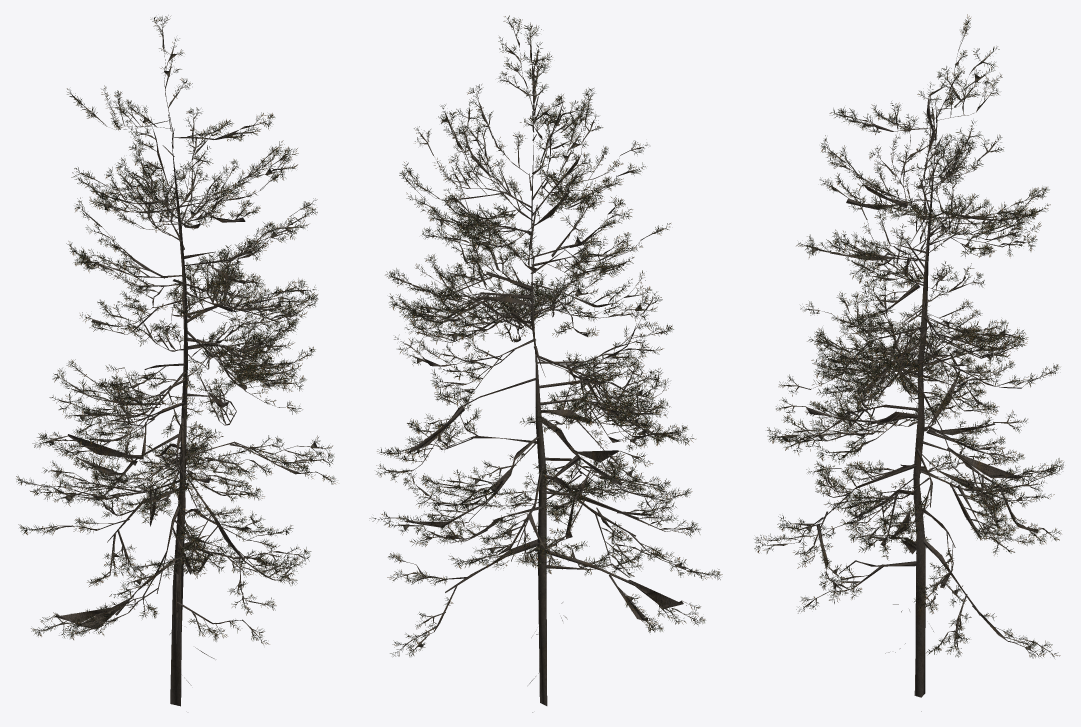
Rendered from pine_game.glb.
The picture shows the model from 3 angles, left to right: view 1: azimuth 30°, elevation 25°; view 2: azimuth 150°, elevation 25°; view 3: azimuth 270°, elevation 25°; orthographic projection. The views are drawn at different scales.
Visible parts, largest first — view 1: pine_sapling_medium_a_LOD0; view 2: pine_sapling_medium_a_LOD0; view 3: pine_sapling_medium_a_LOD0.
Part boxes in pixels (box(x1,y1,x2,y2)): pine_sapling_medium_a_LOD0: box(16, 15, 337, 706); pine_sapling_medium_a_LOD0: box(369, 15, 722, 712); pine_sapling_medium_a_LOD0: box(754, 14, 1063, 711).
Size of the model in its own units: 5.16 by 11.47 by 4.72.
3 materials, 3 textured.
